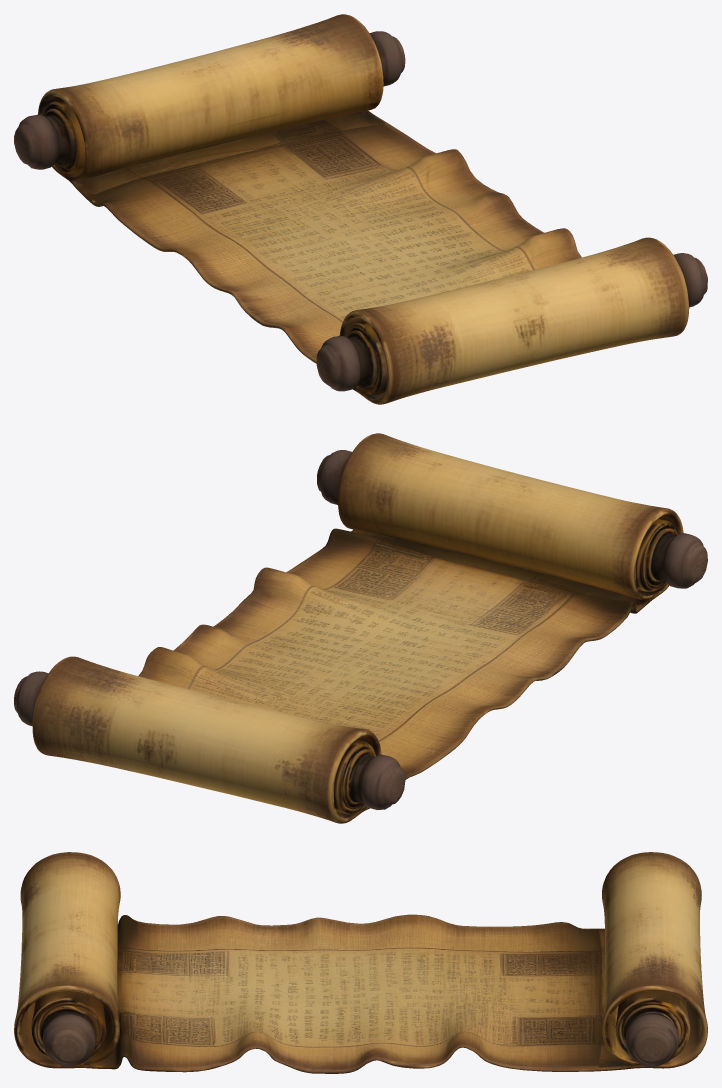
Rendered from canghuang.glb.
The picture shows the model from 3 angles, top to bottom: view 1: azimuth 30°, elevation 25°; view 2: azimuth 150°, elevation 25°; view 3: azimuth 270°, elevation 25°; orthographic projection. The views are drawn at different scales.
Visible parts, largest first — view 1: node_0; view 2: node_0; view 3: node_0.
Boxes of the visible parts, x1=… form: node_0: x1=14, y1=14, x2=707, y2=404; node_0: x1=14, y1=433, x2=707, y2=823; node_0: x1=14, y1=852, x2=707, y2=1073.
Size of the model in its own units: 0.6542 by 0.1463 by 1.09.
1 material, 1 textured.
